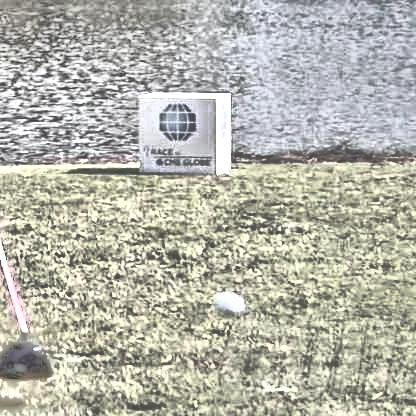golfball: (206, 287, 245, 317)
